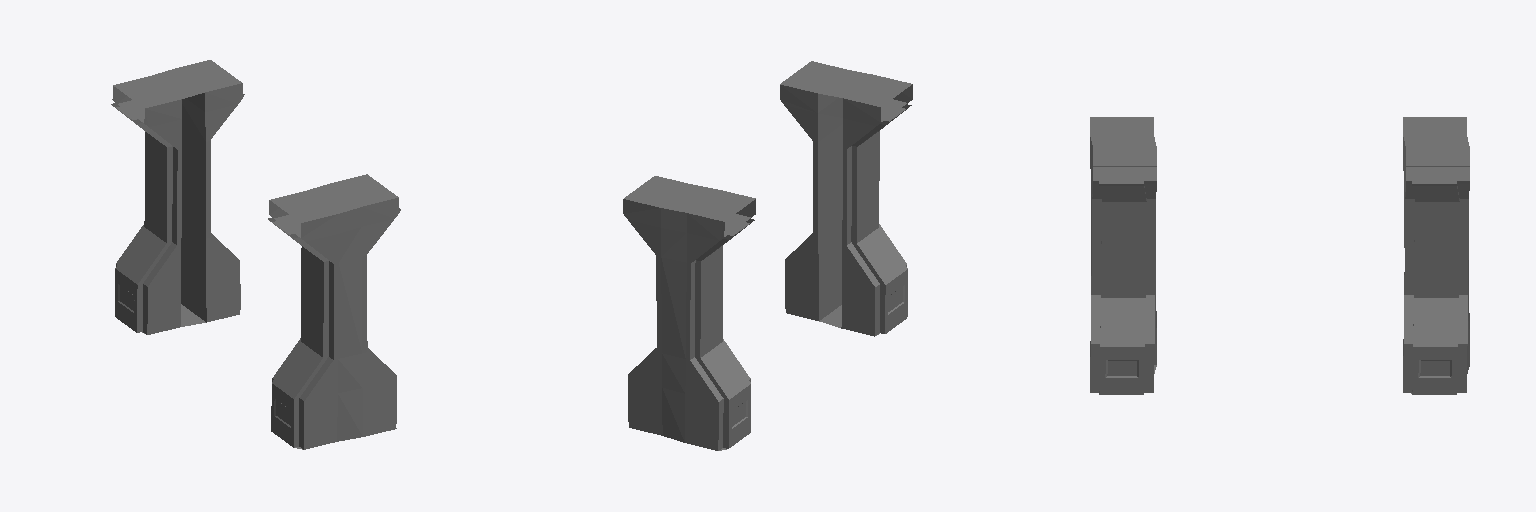
The model's file is interior_door_pillars_01.obj.
3 renders of one model, left to right at view 1: azimuth 30°, elevation 25°; view 2: azimuth 150°, elevation 25°; view 3: azimuth 270°, elevation 25°, orthographic.
Visible parts, largest first — view 1: Plane.005_Plane.002, Plane.005_Plane.000; view 2: Plane.005_Plane.000, Plane.005_Plane.002; view 3: Plane.005_Plane.002, Plane.005_Plane.000.
Part boxes in pixels (bbox=[...]): Plane.005_Plane.002: bbox=[268, 174, 400, 449]; Plane.005_Plane.000: bbox=[111, 60, 244, 334]; Plane.005_Plane.000: bbox=[623, 176, 755, 450]; Plane.005_Plane.002: bbox=[780, 61, 912, 336]; Plane.005_Plane.002: bbox=[1090, 117, 1156, 394]; Plane.005_Plane.000: bbox=[1403, 117, 1469, 394].
Size of the model in its own units: 2.02 by 4 by 6.02.